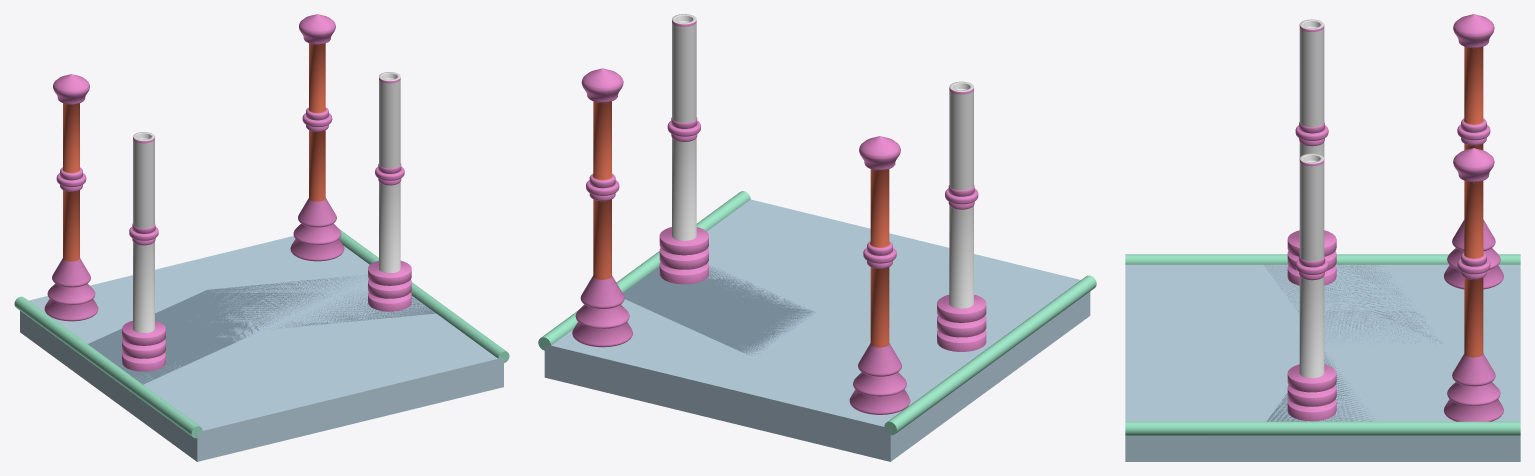
The model's file is Zero.fbx.
3 renders of one model, left to right at view 1: azimuth 30°, elevation 25°; view 2: azimuth 150°, elevation 25°; view 3: azimuth 270°, elevation 25°, orthographic. The views are drawn at different scales.
Visible parts, largest first — view 1: Cube, Circle.001, Circle, Cube.001, Cylinder; view 2: Cube, Circle.001, Circle, Cube.001, Cylinder; view 3: Cube, Circle.001, Circle, Cylinder, Cube.001.
Boxes of the visible parts, x1,y1,x2,y2 form: Cube: [20, 236, 503, 461]; Circle.001: [122, 72, 411, 371]; Circle: [44, 14, 344, 321]; Cube.001: [88, 275, 435, 384]; Cylinder: [14, 229, 509, 438]; Cube: [544, 199, 1090, 461]; Circle.001: [659, 14, 986, 351]; Circle: [572, 68, 910, 414]; Cube.001: [623, 266, 815, 355]; Cylinder: [538, 191, 1096, 435]; Cube: [1125, 264, 1520, 461]; Circle.001: [1287, 19, 1336, 421]; Circle: [1443, 14, 1503, 421]; Cylinder: [1125, 254, 1520, 435]; Cube.001: [1264, 264, 1442, 421].
Size of the model in its own units: 207 by 166 by 200.
